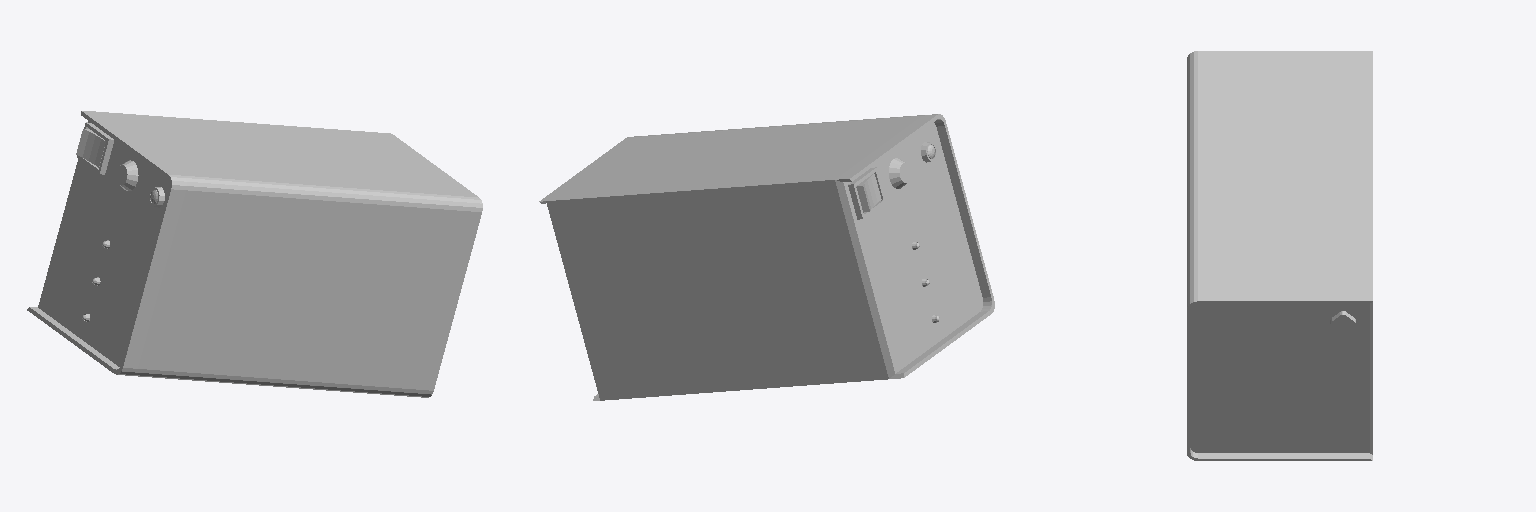
The model's file is ControlUnit.obj.
3 views of the same model, side by side, from view 1: azimuth 30°, elevation 25°; view 2: azimuth 150°, elevation 25°; view 3: azimuth 270°, elevation 25° (orthographic).
Size of the model in its own units: 6.68 by 4.98 by 2.95.